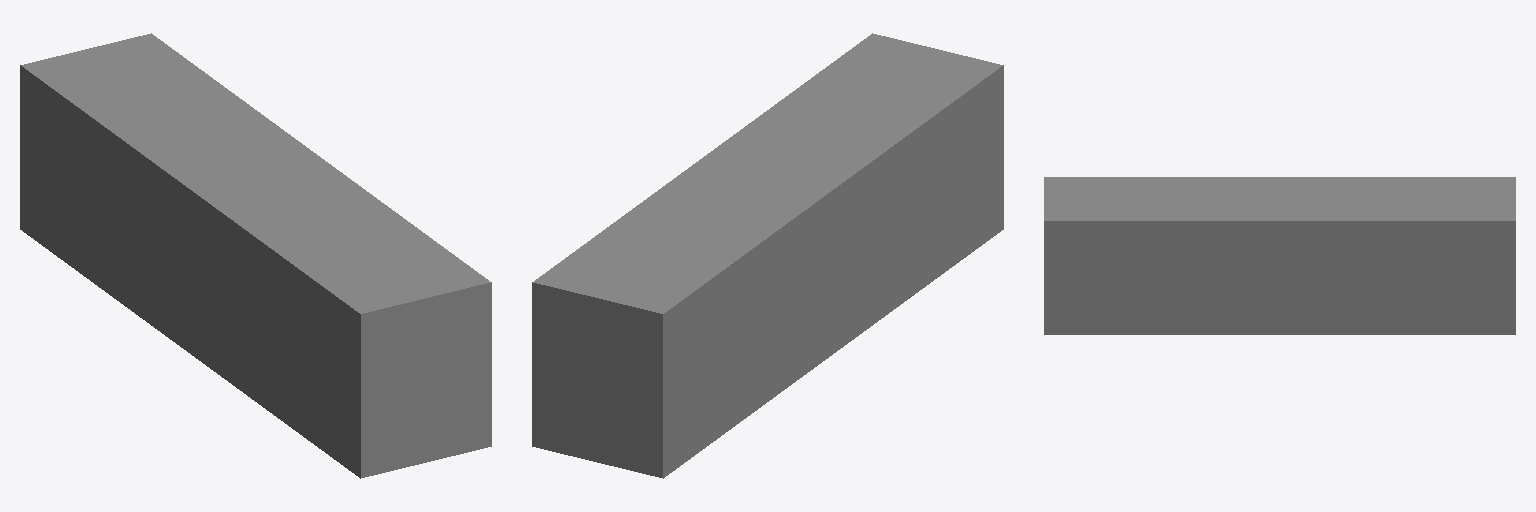
The robot description file, URDF, robot "lbr":
<?xml version="1.0" ?>
<!-- =================================================================================== -->
<!-- |    This document was autogenerated by xacro from asus_xtion.xacro               | -->
<!-- |    EDITING THIS FILE BY HAND IS NOT RECOMMENDED                                 | -->
<!-- =================================================================================== -->
<robot name="lbr" xmlns:controller="http://playerstage.sourceforge.net/gazebo/xmlschema/#controller" xmlns:interface="http://playerstage.sourceforge.net/gazebo/xmlschema/#interface" xmlns:sensor="http://playerstage.sourceforge.net/gazebo/xmlschema/#sensor" xmlns:xacro="http://ros.org/wiki/xacro">
  <material name="asus_xtion_gray">
    <color rgba="0.6 0.6 0.6 1.0"/>
  </material>
  <link name="camera_depth_frame"/>
  <link name="camera_rgb_frame"/>
  <link name="camera_depth_optical_frame"/>
  <link name="camera_rgb_optical_frame"/>
  <link name="camera_link">
    <visual>
      <geometry>
        <box size="0.04 0.18 0.048"/>
      </geometry>
      <origin xyz="0 0 0"/>
      <material name="asus_xtion_gray"/>
    </visual>
    <collision>
      <geometry>
        <box size="0.04 0.18 0.048"/>
      </geometry>
      <origin xyz="0 0 0"/>
    </collision>
  </link>
  <joint name="camera_joint1" type="fixed">
    <parent link="camera_link"/>
    <child link="camera_depth_frame"/>
    <origin rpy="0 0 0" xyz="0 0.049 0.013"/>
  </joint>
  <joint name="camera_joint2" type="fixed">
    <parent link="camera_link"/>
    <child link="camera_rgb_frame"/>
    <origin rpy="0 0 0" xyz="0 0.022 0.013"/>
  </joint>
  <joint name="camera_joint3" type="fixed">
    <parent link="camera_depth_frame"/>
    <child link="camera_depth_optical_frame"/>
    <origin rpy="-1.57 0 -1.57" xyz="0 0 0"/>
  </joint>
  <joint name="camera_joint4" type="fixed">
    <parent link="camera_rgb_frame"/>
    <child link="camera_rgb_optical_frame"/>
    <origin rpy="-1.57 0 -1.57" xyz="0 0 0"/>
  </joint>
</robot>

--- Facts derived from the render (not from the file) ---
Views: 3 orthographic renders of the robot side by side, from view 1: azimuth 30°, elevation 25°; view 2: azimuth 150°, elevation 25°; view 3: azimuth 270°, elevation 25°.
Model lbr with 5 links and 4 joints (4 fixed), rooted at camera_link, posed all joints at 0.
Links seen in each view (by area): view 1: camera_link; view 2: camera_link; view 3: camera_link.
Link boxes in pixels (x1,y1,x2,y2): camera_link: [20, 33, 491, 478]; camera_link: [532, 33, 1003, 478]; camera_link: [1044, 177, 1515, 334].
Bounding box of the posed robot: 0.04 × 0.18 × 0.048 m (x, y, z).
Geometry: primitives only (box / cylinder / sphere), no mesh files.